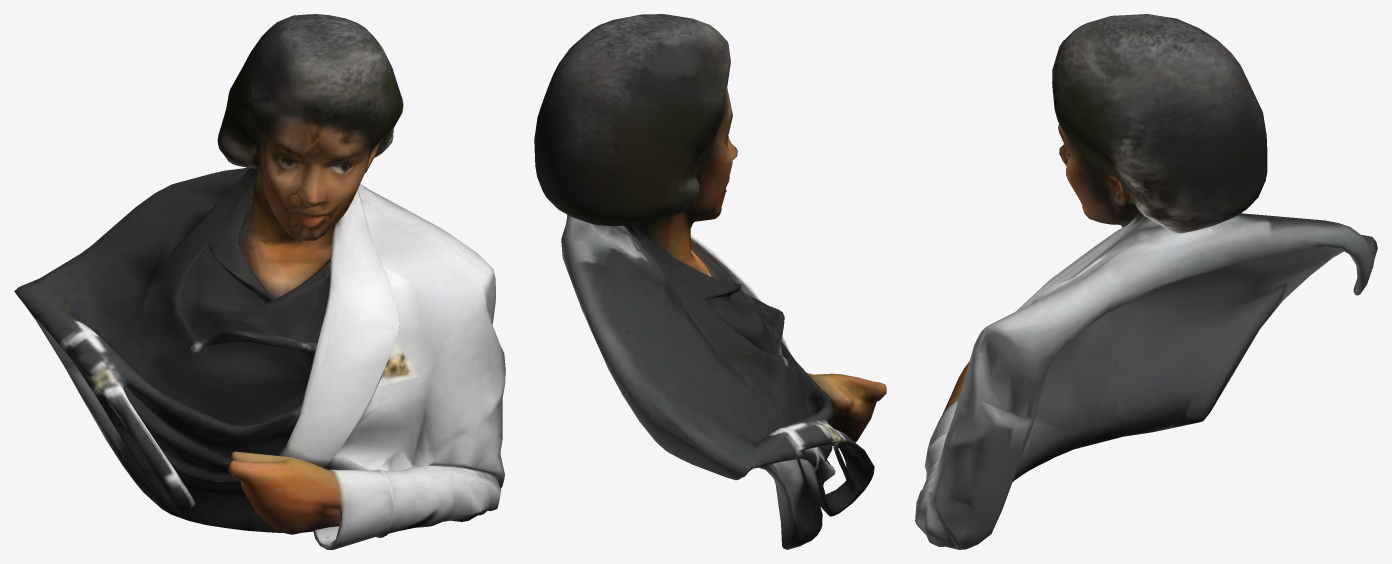
3 views of the same model, side by side, from view 1: azimuth 30°, elevation 25°; view 2: azimuth 150°, elevation 25°; view 3: azimuth 270°, elevation 25° (orthographic). The views are drawn at different scales.
Parts seen in each view (by area): view 1: node_0; view 2: node_0; view 3: node_0.
Boxes of the visible parts, bbox=[...] form: node_0: bbox=[14, 14, 505, 549]; node_0: bbox=[534, 14, 886, 549]; node_0: bbox=[915, 14, 1377, 549].
Bounding box in the file's own units: 0.677 × 0.8864 × 0.7613.
Materials: 1 (1 with a texture image).
